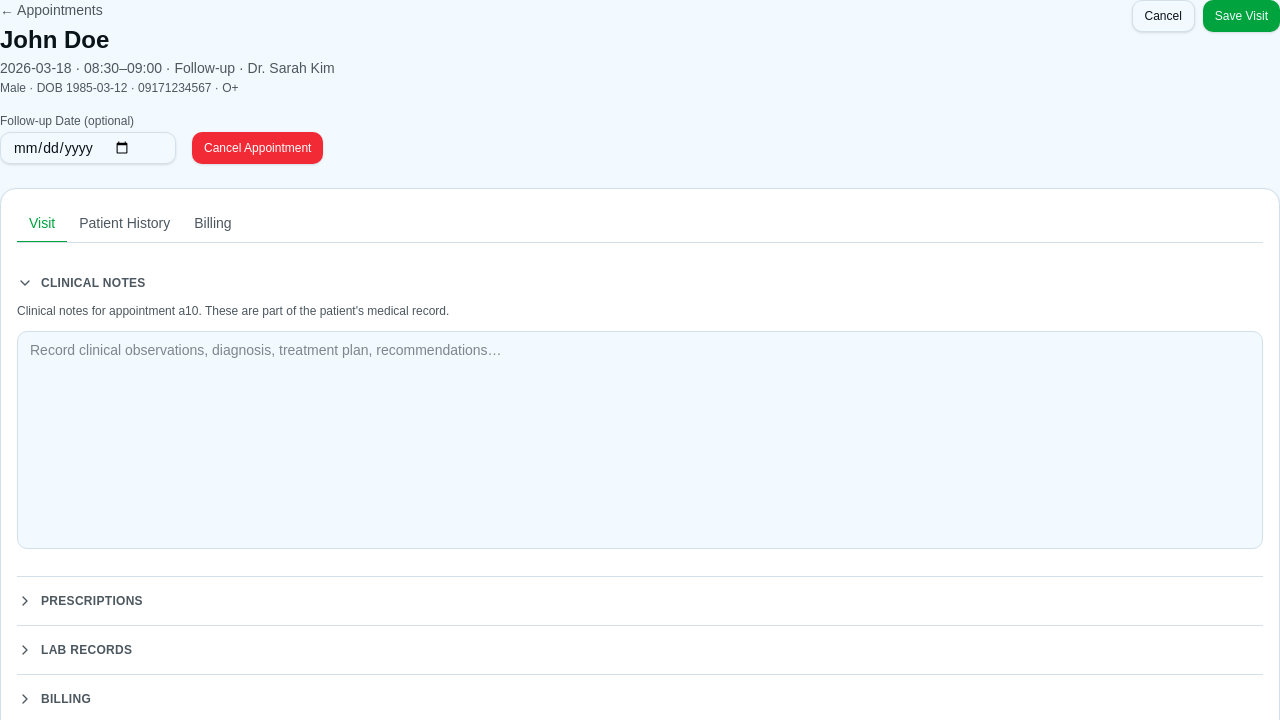
Test case: AppointmentVisitPage › switches between tabs
What coordinates should you click on to do the following:
click the button "Patient History"
I would click on:
 (125, 224)
Its box is [67,205,182,243].
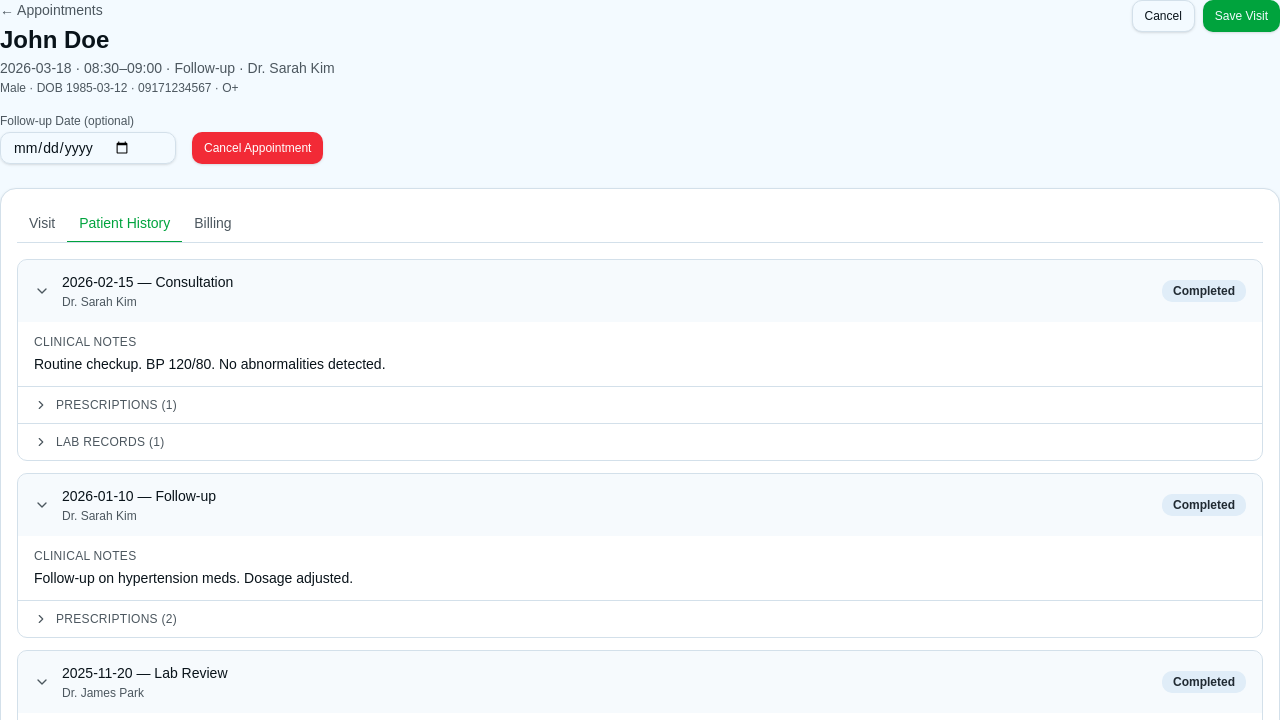
Expected: the text "2026-02-15 — Consultation" is shown, [62,272,233,292]
What coordinates should you click on to do the following:
click the button "Billing"
I would click on:
 (213, 224)
Its box is [182,205,244,243].
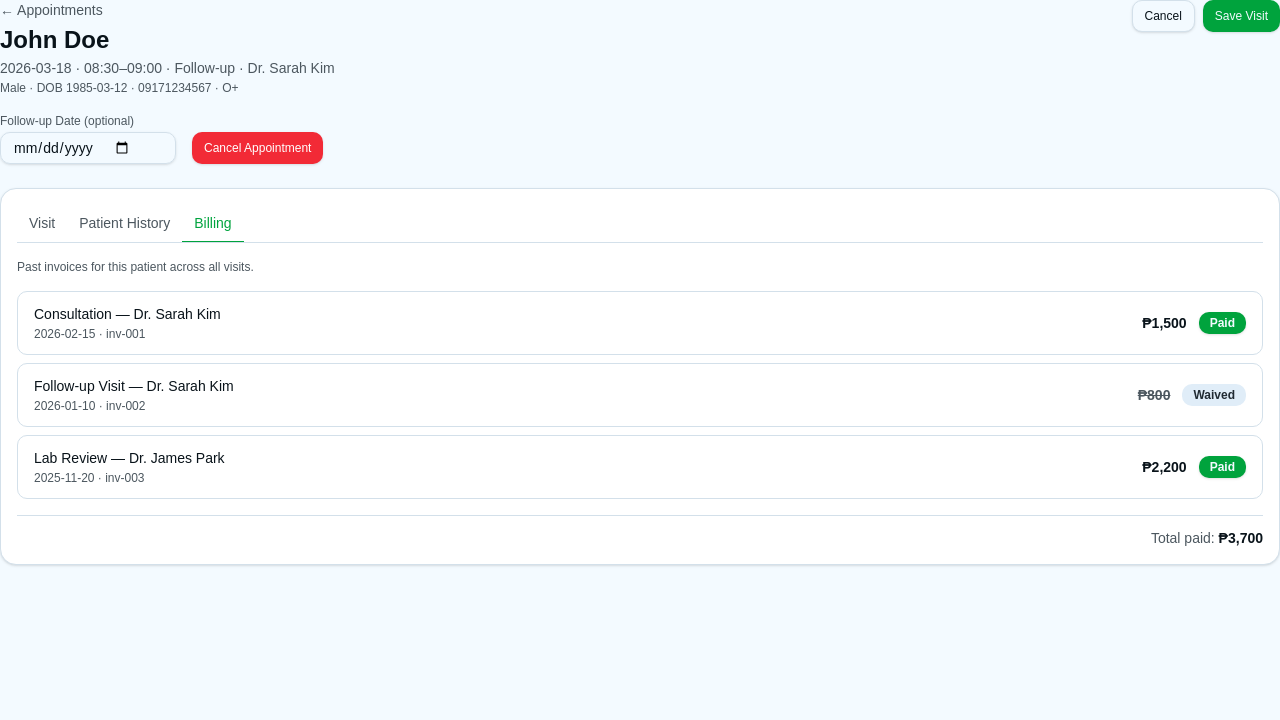
Expected: the text "Consultation — Dr. Sarah Kim" is shown, [34,304,221,324]
